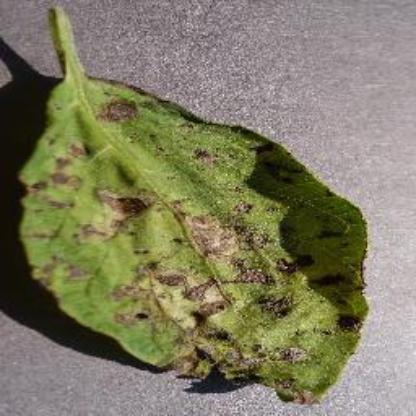Early-Blight: (7, 5, 381, 403)
